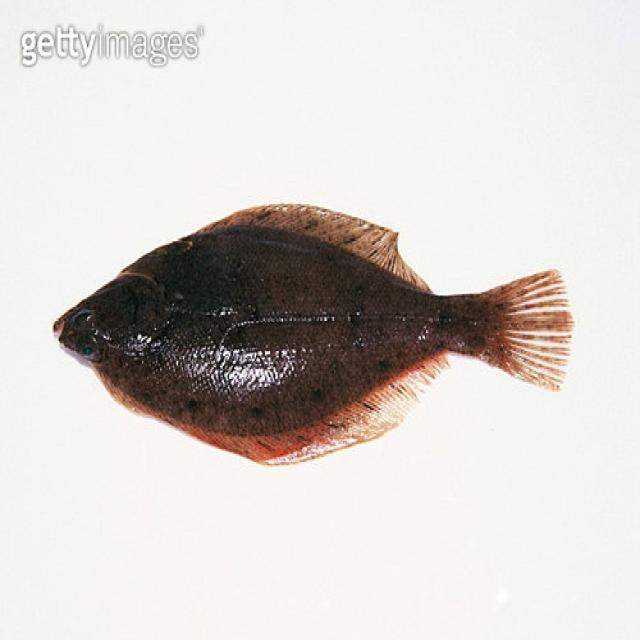yellow_striped_flounder: (45, 195, 588, 472)
